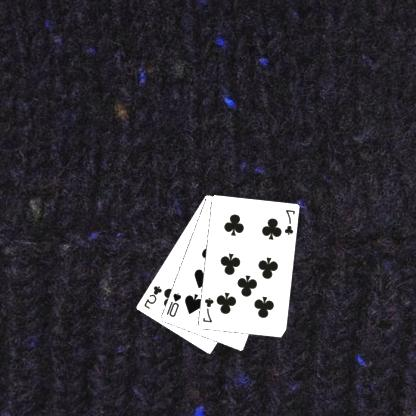10S: (165, 290, 184, 318)
5C: (142, 283, 165, 311)
7C: (283, 207, 298, 236), (202, 295, 216, 324)
